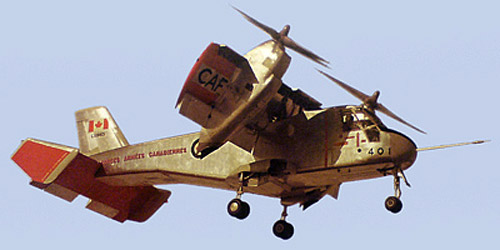Aeronef_militaire: (12, 1, 494, 242)
